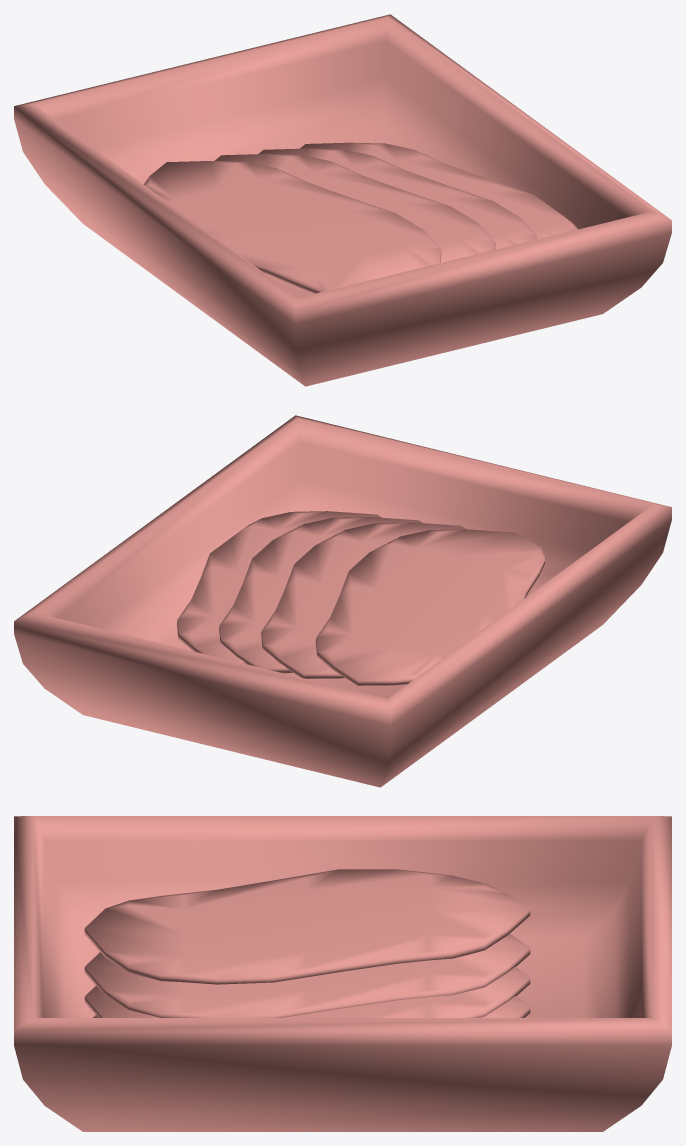
The model's file is Prosciutto_Cotto_Riciclata.fbx.
The picture shows the model from 3 angles, top to bottom: view 1: azimuth 30°, elevation 25°; view 2: azimuth 150°, elevation 25°; view 3: azimuth 270°, elevation 25°; orthographic projection. The views are drawn at different scales.
Parts seen in each view (by area): view 1: vaschetta.005; view 2: vaschetta.005; view 3: vaschetta.005.
Part boxes in pixels (x1,y1,x2,y2): vaschetta.005: (14,14,671,386); vaschetta.005: (14,415,671,787); vaschetta.005: (14,816,671,1131).
Bounding box in the file's own units: 101 × 28.59 × 131.
